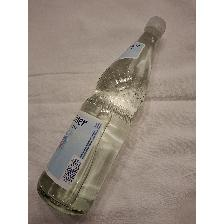Wasser: (36, 16, 170, 216)
